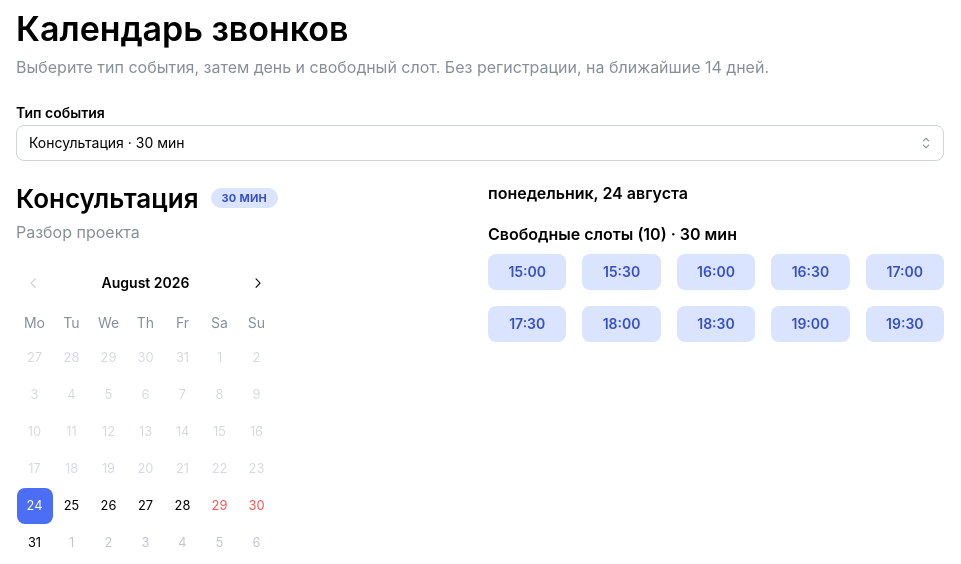
Test: BookingPage (гость: тип события → календарь → слоты) › отображает выбранный тип события и свободные слоты за день
Expected: the heading "Консультация" is shown, [16, 181, 198, 216]
Click the button named "2026-08-25".
click(72, 506)  # box [54, 488, 90, 524]
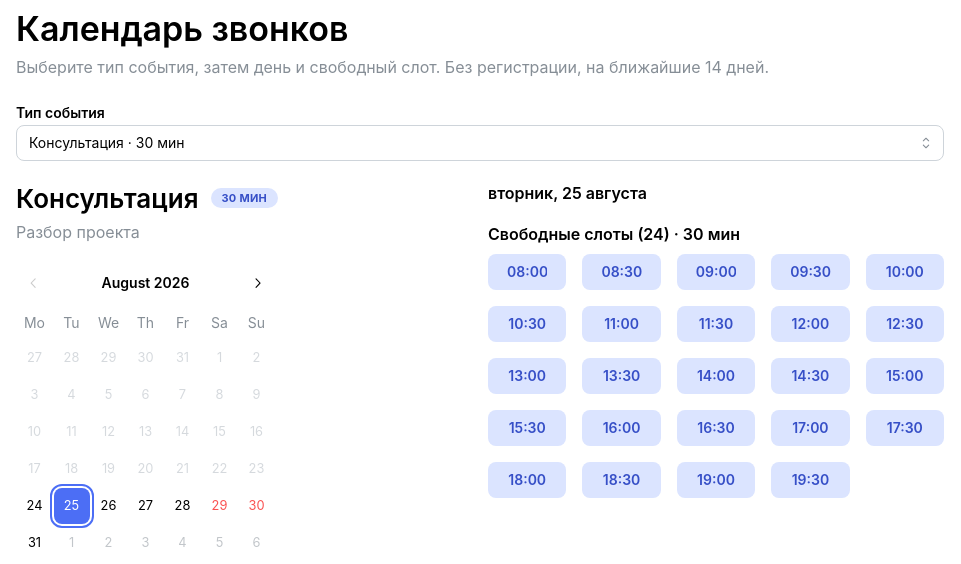
Expected: the text "Свободные слоты (24) · 30 мин" is shown, [488, 224, 740, 244]
Now the button "08:00" is shown, box [507, 263, 548, 280]
